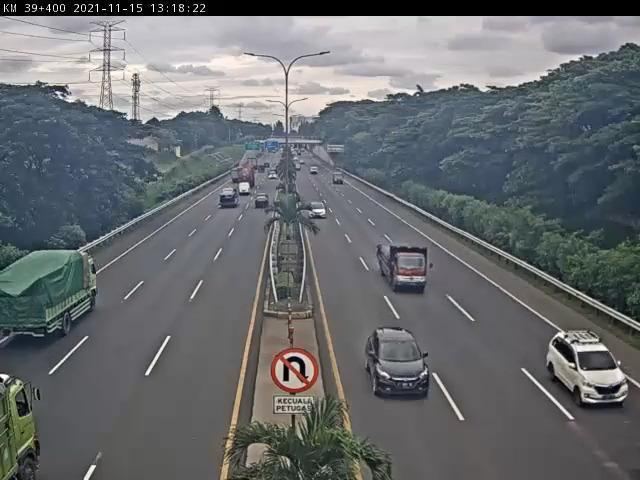car: (547, 328, 631, 407), (365, 327, 431, 399)
truck: (2, 247, 101, 340), (378, 241, 429, 294)
